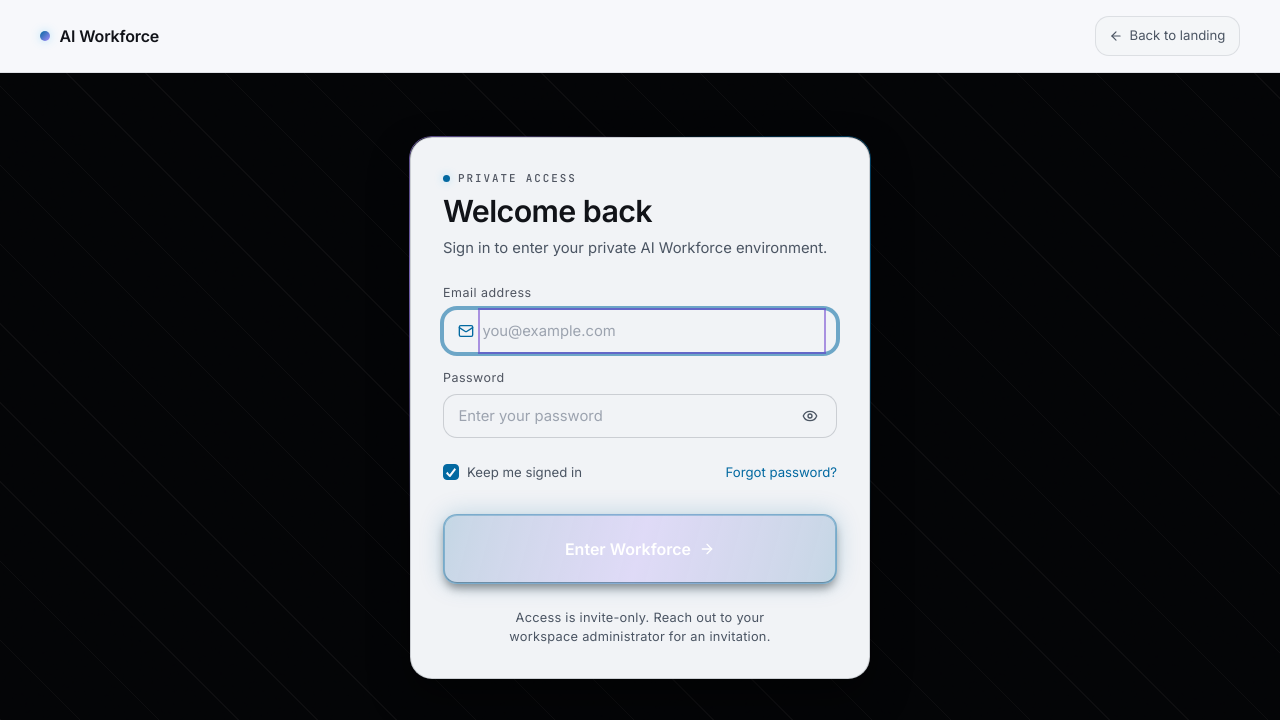
it: Login › sends a password reset with a response that does not reveal account existence
The width and height of the screenshot is (1280, 720).
Click the link "Forgot password?".
click(781, 472)  # box 726,464 -> 837,480
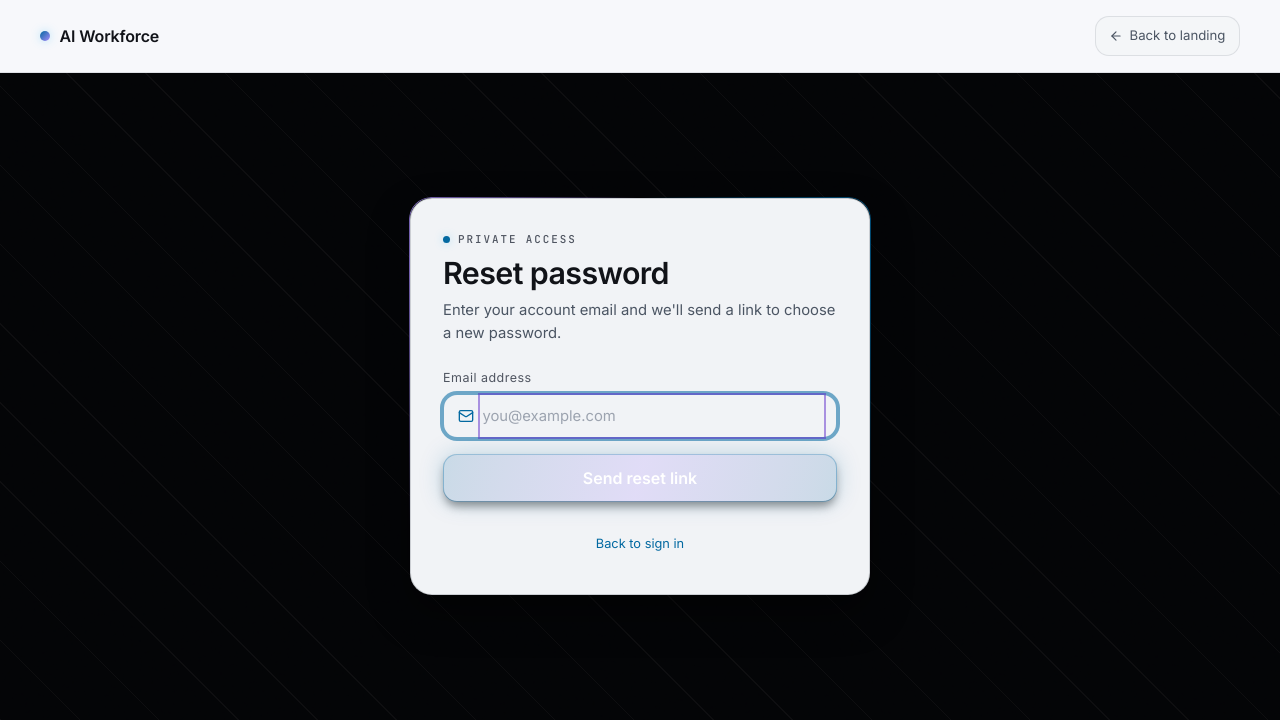
Type "someone@example.com" into the field labelled "Email address".
click(652, 416); type("someone@example.com")  # box 482,396 -> 822,435
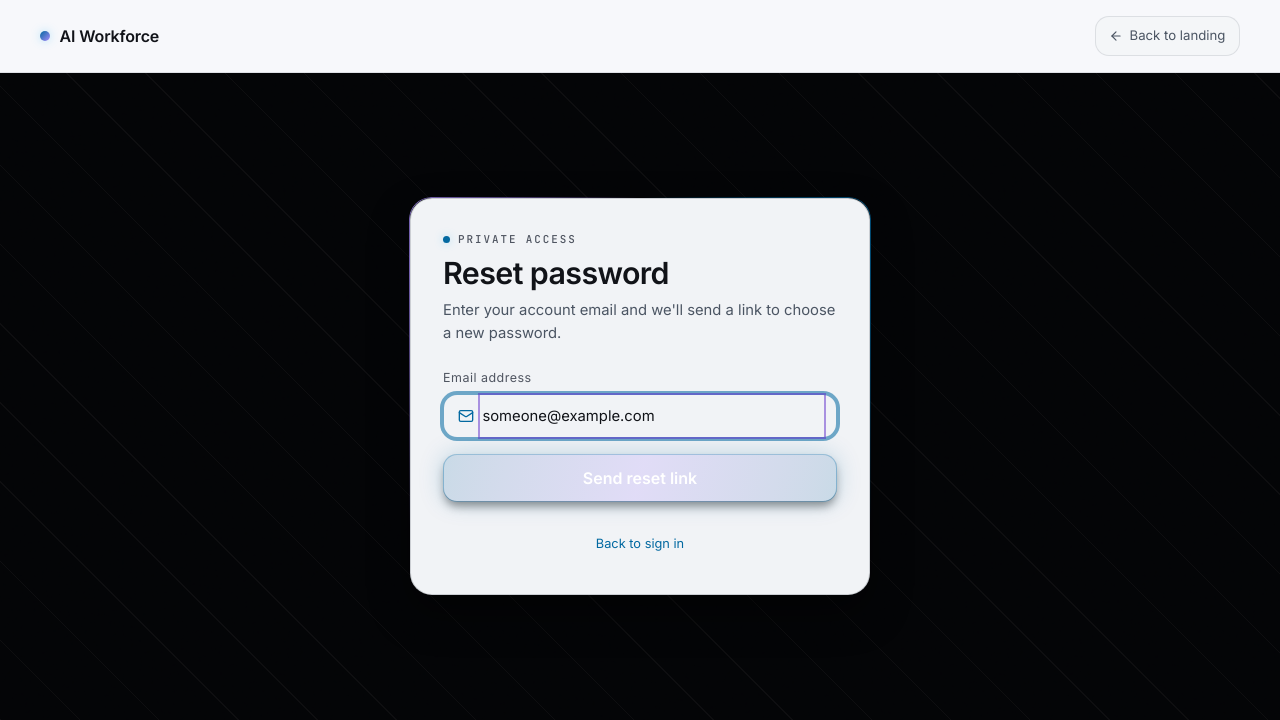
Click the button "Send reset link".
click(640, 478)  # box 443,454 -> 837,502
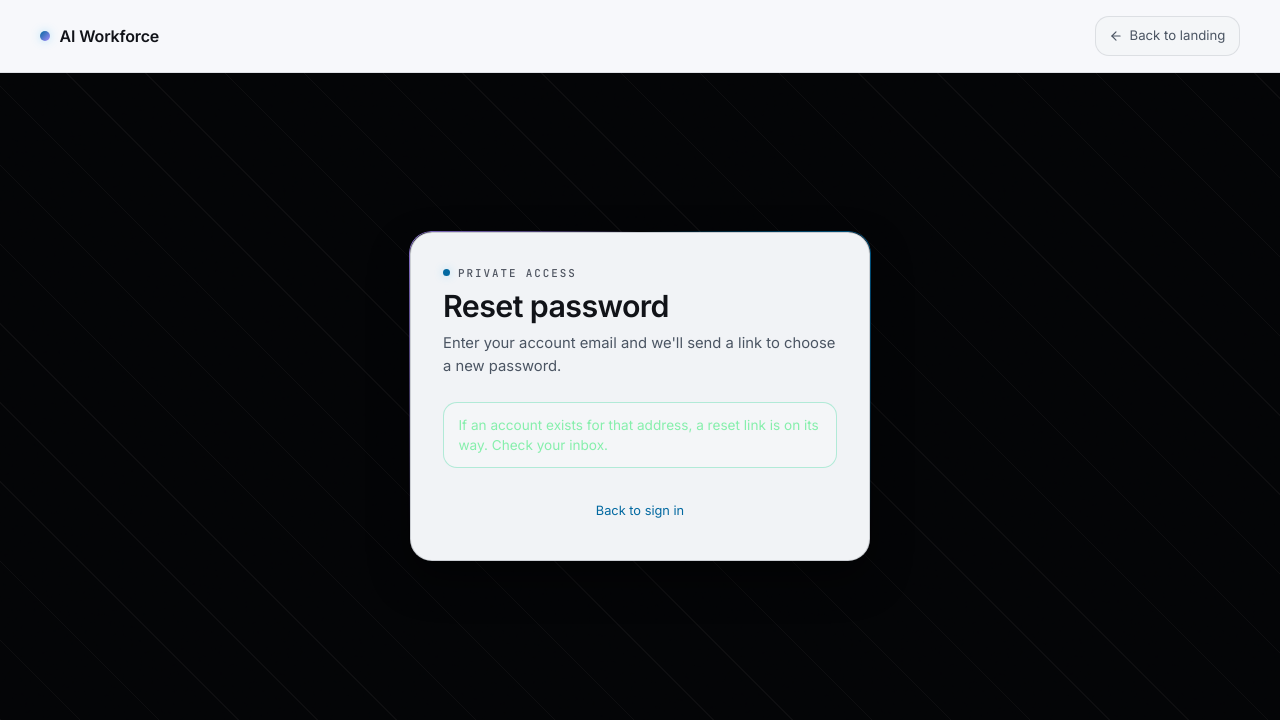
Result: the text "If an account exists for that address" is shown at 458,417 -> 819,453
